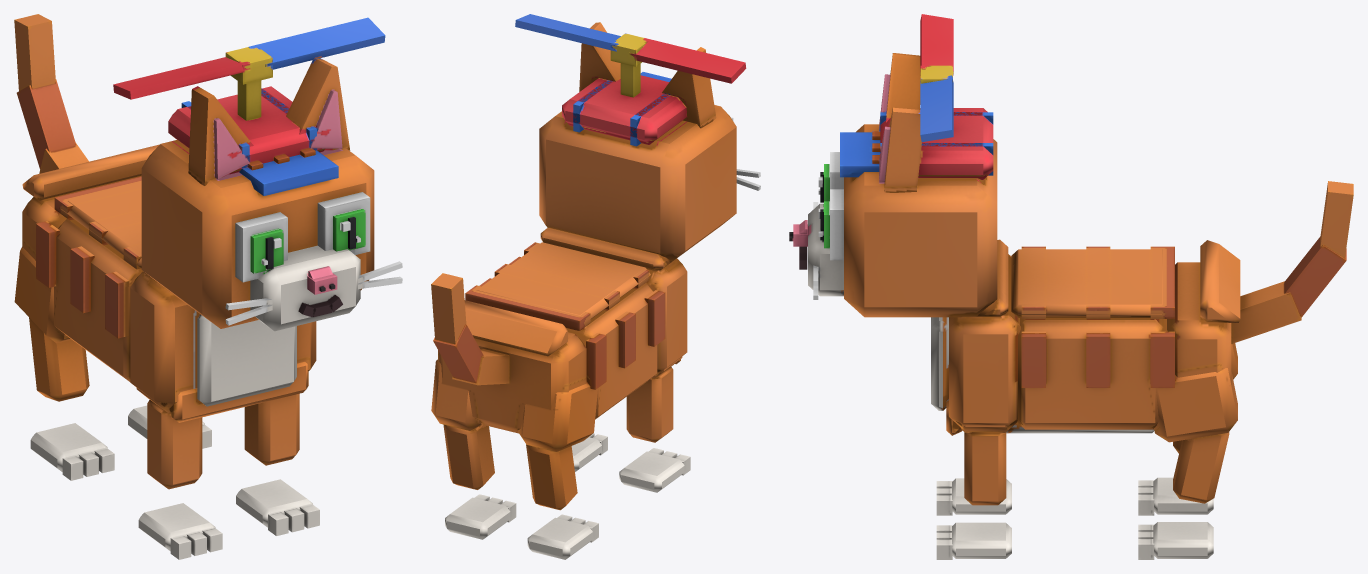
Rendered from ChatCoptere_Rig.fbx.
The picture shows the model from 3 angles, left to right: view 1: azimuth 30°, elevation 25°; view 2: azimuth 150°, elevation 25°; view 3: azimuth 270°, elevation 25°; orthographic projection. The views are drawn at different scales.
Visible parts, largest first — view 1: Body, LegBR, LegFR, Rotor, LegFL, Tail, EarR, EarL, LegBL; view 2: Body, LegBR, LegBL, Rotor, LegFR, Tail, EarR, EarL, LegFL; view 3: Body, LegBL, Tail, LegFL, Rotor, EarL, LegBR, EarR, LegFR.
Boxes of the visible parts, x1=… form: Body: x1=22, y1=80, x2=402, y2=422; LegBR: x1=14, y1=247, x2=114, y2=480; LegFR: x1=136, y1=388, x2=222, y2=559; Rotor: x1=113, y1=17, x2=385, y2=99; LegFL: x1=236, y1=393, x2=319, y2=535; Tail: x1=14, y1=14, x2=88, y2=173; EarR: x1=188, y1=86, x2=253, y2=185; EarL: x1=286, y1=58, x2=350, y2=150; LegBL: x1=128, y1=405, x2=211, y2=448; Body: x1=438, y1=63, x2=760, y2=433; LegBR: x1=518, y1=382, x2=598, y2=559; LegBL: x1=431, y1=359, x2=516, y2=539; Rotor: x1=515, y1=14, x2=746, y2=83; LegFR: x1=619, y1=356, x2=690, y2=492; Tail: x1=431, y1=273, x2=509, y2=385; EarR: x1=662, y1=47, x2=716, y2=128; EarL: x1=579, y1=22, x2=620, y2=91; LegFL: x1=571, y1=433, x2=607, y2=471; Body: x1=789, y1=108, x2=1240, y2=435; LegBL: x1=1138, y1=368, x2=1237, y2=559; Tail: x1=1231, y1=181, x2=1353, y2=343; LegFL: x1=936, y1=422, x2=1016, y2=559; Rotor: x1=920, y1=14, x2=953, y2=141; EarL: x1=879, y1=107, x2=921, y2=192; LegBR: x1=1138, y1=343, x2=1237, y2=515; EarR: x1=879, y1=53, x2=920, y2=131; LegFR: x1=936, y1=478, x2=1011, y2=515.
Bounding box in the file's own units: 3.27 × 6 × 6.73.
1 material, 1 textured.
